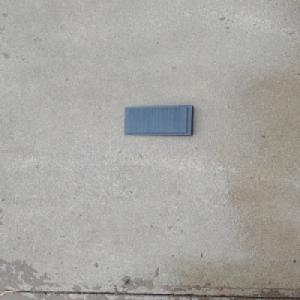PlasticPart: (121, 104, 196, 137)
